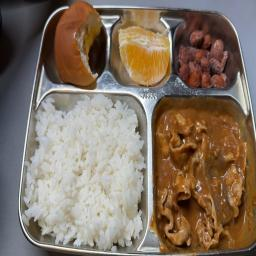100_beef: (152, 109, 254, 248)
100_nuts: (174, 23, 227, 90)
100_orange: (114, 17, 170, 86)
100_rice: (34, 94, 142, 245)
50_bread: (50, 6, 107, 88)
